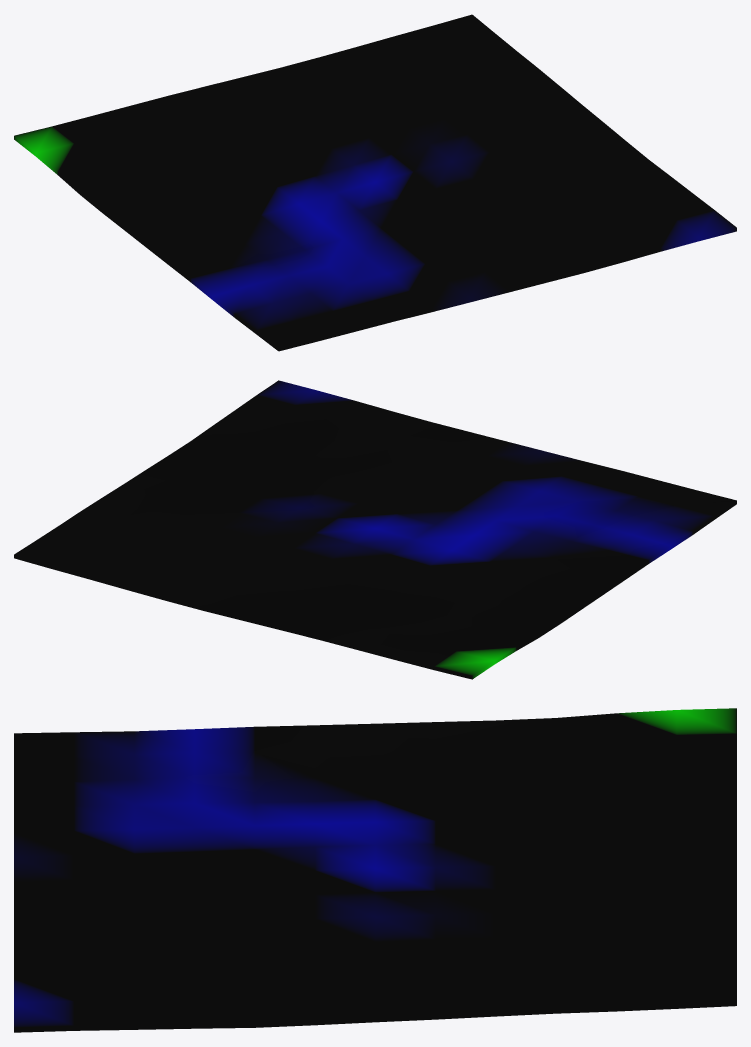
The model's file is coast_21_5.glb.
3 views of the same model, one above another, from view 1: azimuth 30°, elevation 25°; view 2: azimuth 150°, elevation 25°; view 3: azimuth 270°, elevation 25° (orthographic). The views are drawn at different scales.
Visible parts, largest first — view 1: terrain; view 2: terrain; view 3: terrain.
Boxes of the visible parts, x1,y1,x2,y2 form: terrain: (14,14,736,351); terrain: (14,380,736,679); terrain: (14,708,736,1032).
Size of the model in its own units: 192 by 12.6 by 192.
